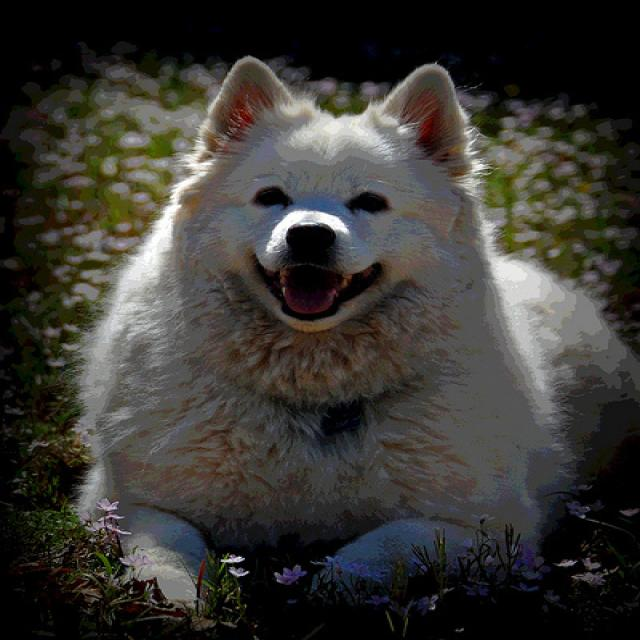dog-samoyed: (56, 46, 637, 616)
